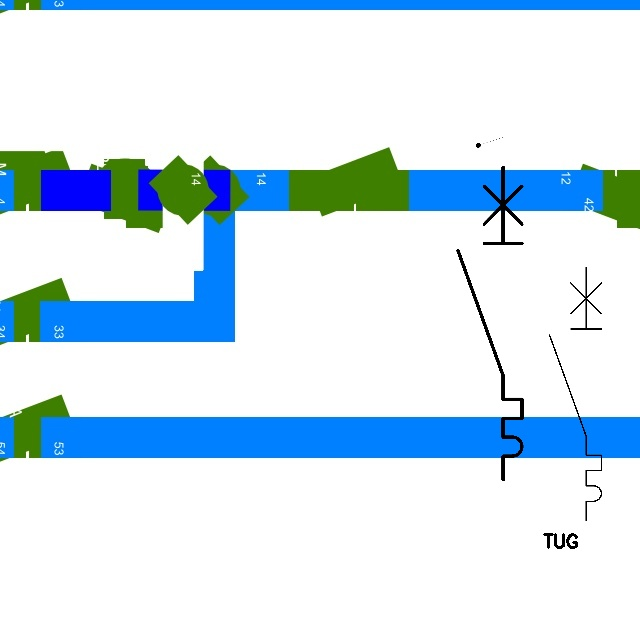interruptor_termomagnetico: (450, 159, 530, 488), (543, 261, 608, 527)
